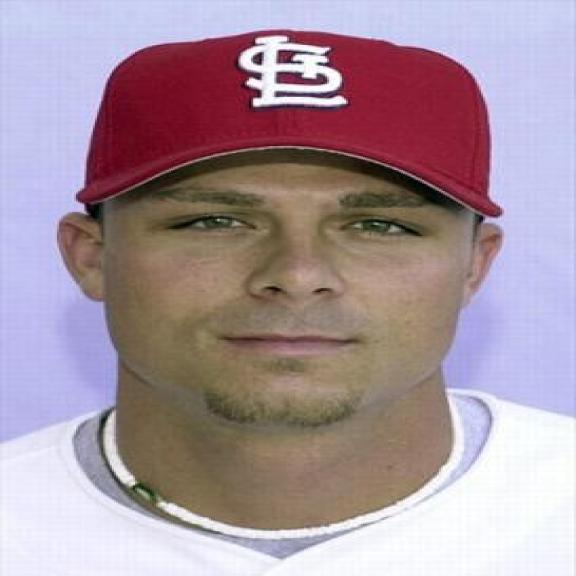face: (50, 164, 514, 429)
